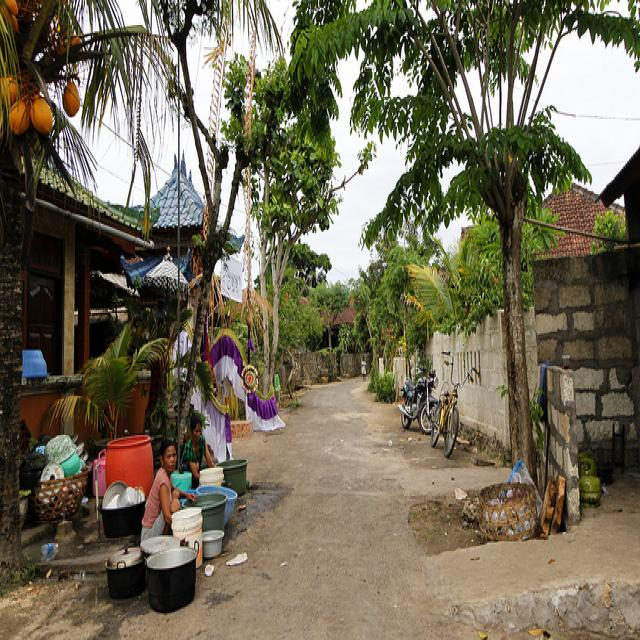motor: (398, 365, 439, 436)
